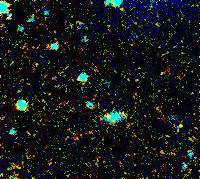star: (95, 100, 125, 130)
